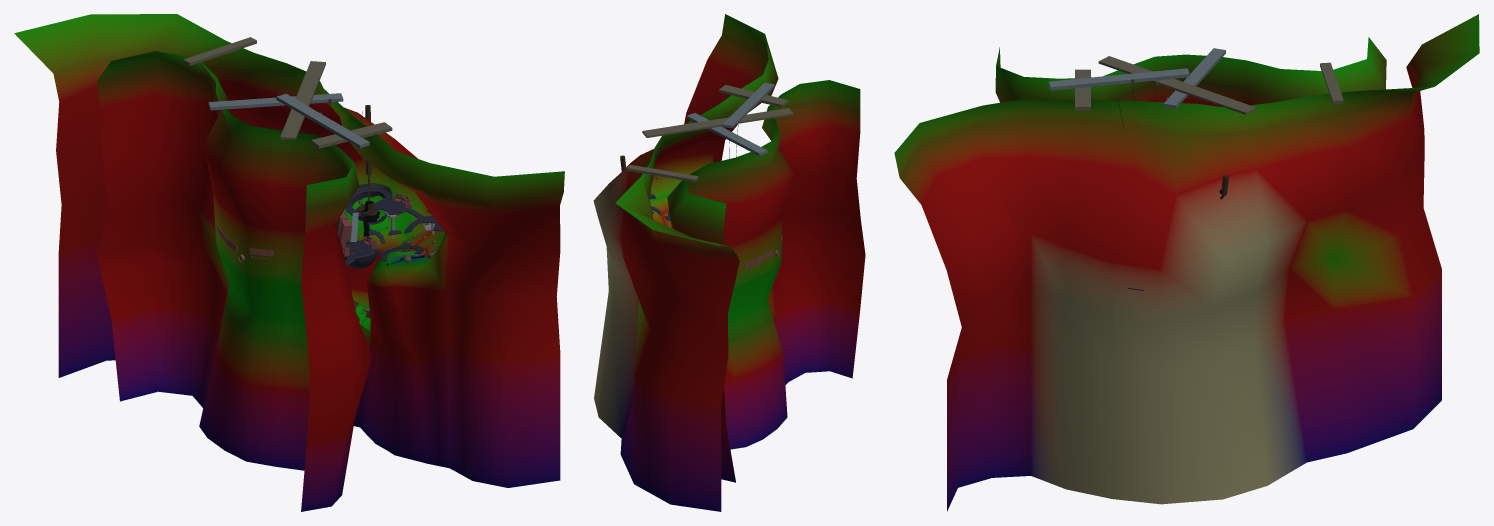
File: test map.fbx
The picture shows the model from 3 angles, left to right: view 1: azimuth 30°, elevation 25°; view 2: azimuth 150°, elevation 25°; view 3: azimuth 270°, elevation 25°; orthographic projection. The views are drawn at different scales.
Parts seen in each view (by area): view 1: west cliff, east cliff, east terrain, platforms east, top bridge.002, top bridge.004, top bridge.001, top bridge, top bridge.003; view 2: west cliff, east cliff, east terrain, top bridge.002, top bridge.001, top bridge.004, top bridge, top bridge.003; view 3: east cliff, west cliff, top bridge.002, top bridge.004, top bridge.001.
Part boxes in pixels (x1,y1,x2,y2): west cliff: (96, 51, 372, 511); east cliff: (14, 14, 564, 487); east terrain: (305, 106, 449, 468); platforms east: (346, 187, 443, 261); top bridge.002: (280, 61, 325, 140); top bridge.004: (276, 93, 369, 148); top bridge.001: (208, 93, 343, 110); top bridge: (311, 122, 392, 148); top bridge.003: (183, 37, 256, 65); west cliff: (667, 80, 865, 482); east cliff: (593, 14, 778, 511); east terrain: (649, 153, 713, 227); top bridge.002: (642, 108, 793, 137); top bridge.001: (686, 113, 767, 155); top bridge.004: (722, 82, 774, 128); top bridge: (719, 85, 788, 107); top bridge.003: (627, 164, 698, 182); east cliff: (894, 14, 1479, 511); west cliff: (995, 37, 1386, 107); top bridge.002: (1098, 56, 1256, 114); top bridge.004: (1048, 68, 1189, 90); top bridge.001: (1163, 48, 1225, 108).
Size of the model in its own units: 198 by 218 by 324.
